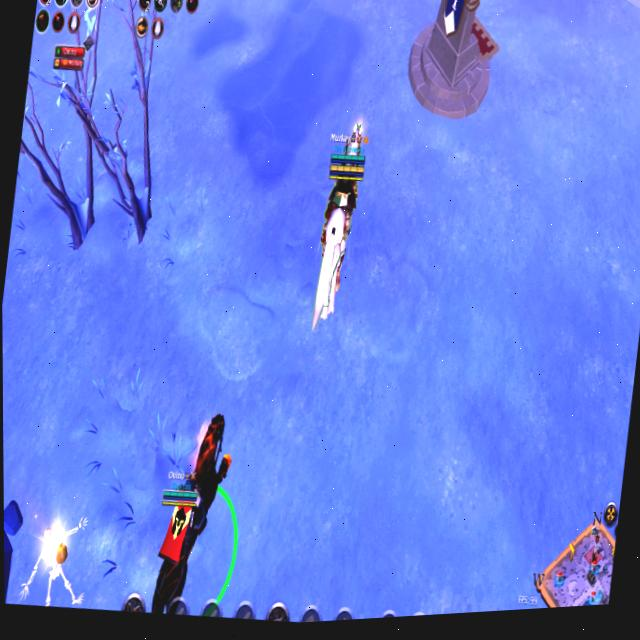red: (138, 394, 256, 623), (299, 98, 375, 338)
